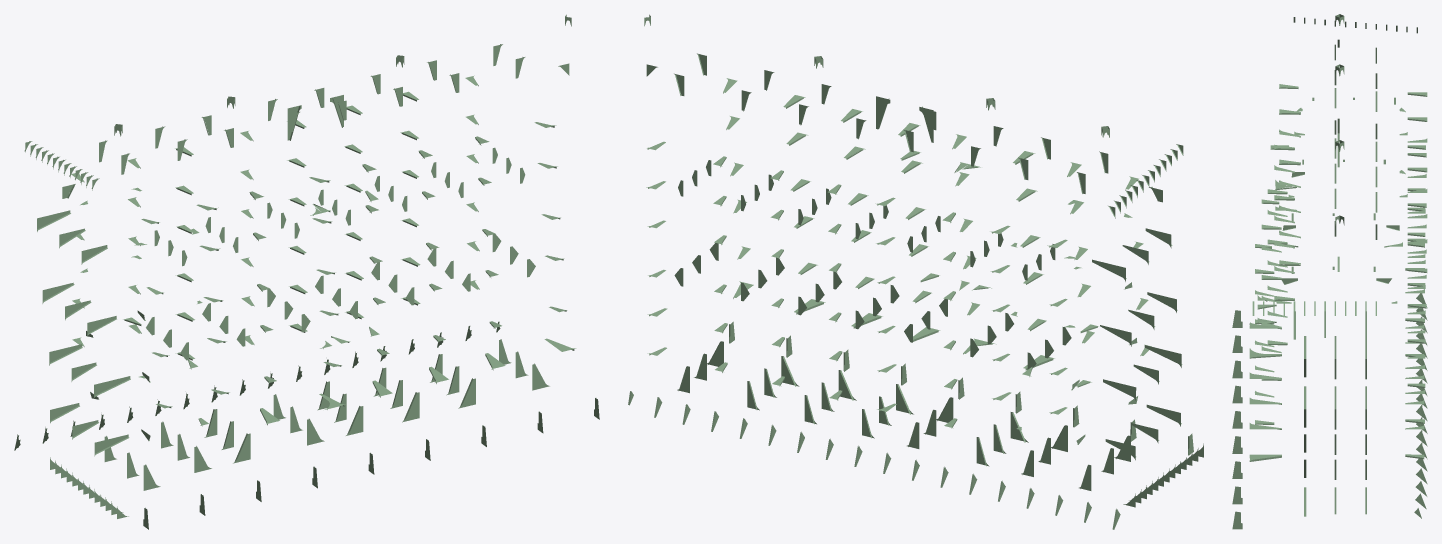
Rendered from NO_2_WING_WATER_BLT_TK_PS.glb.
3 renders of one model, left to right at view 1: azimuth 30°, elevation 25°; view 2: azimuth 150°, elevation 25°; view 3: azimuth 270°, elevation 25°, orthographic. The views are drawn at different scales.
Bounding box in the file's own units: 47.16 × 31.5 × 17.18.
